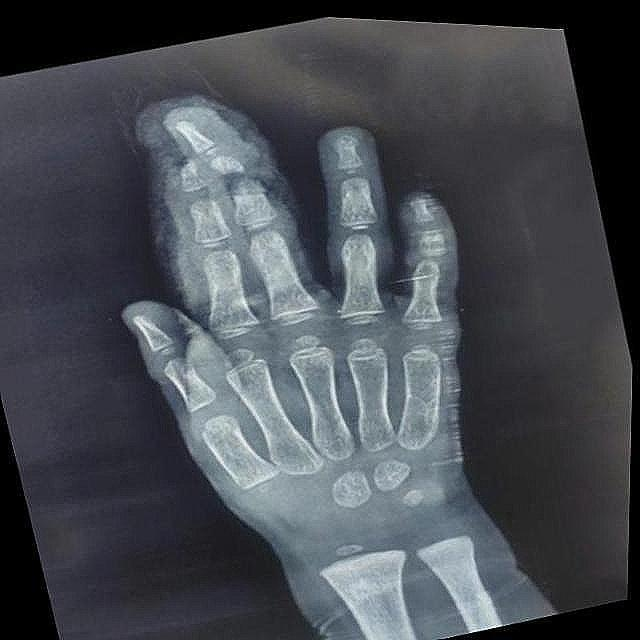bone: (207, 140, 284, 219)
